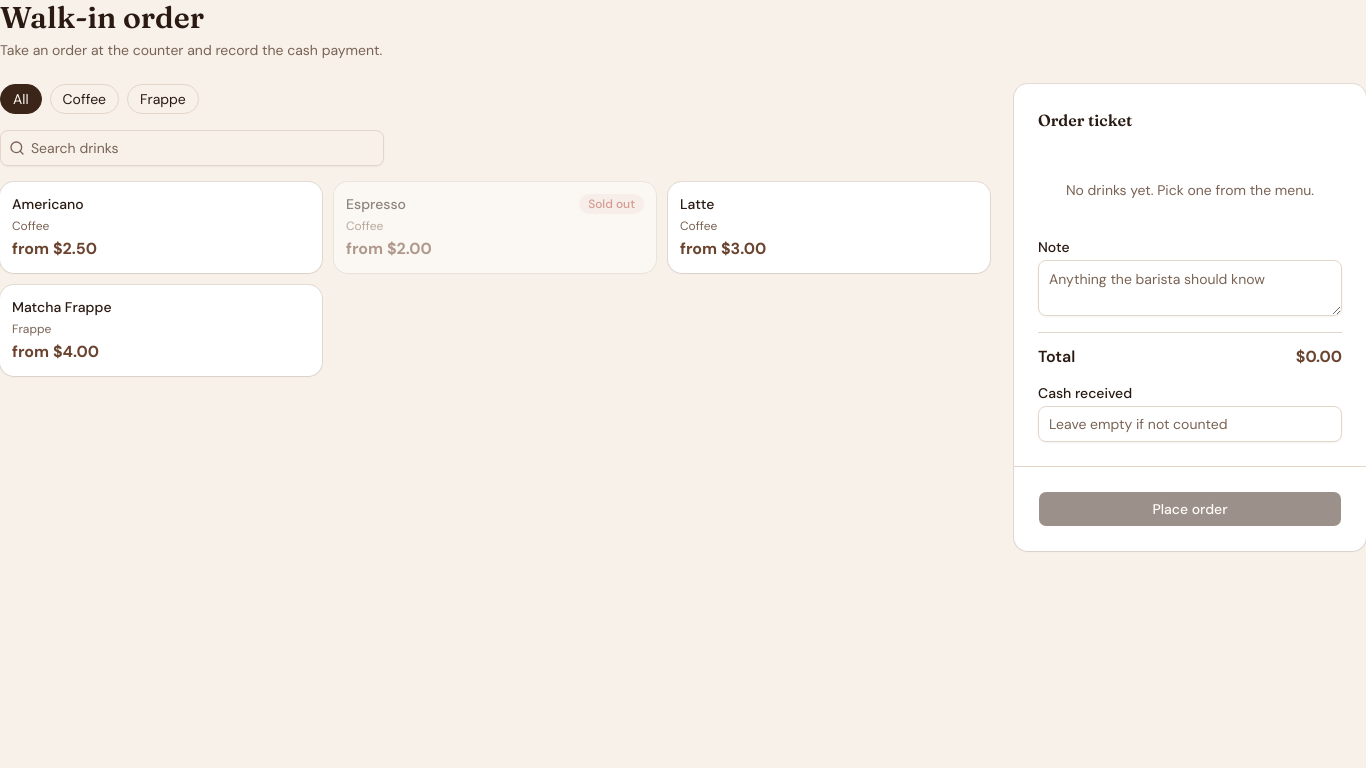
Scenario: WalkInPage (FR-23, FR-39, BR-13) › will not add a drink while a required group has no choice (TC-12)
Click the button "Latte Coffee from $3.00": (697, 204) [668,182,990,273]
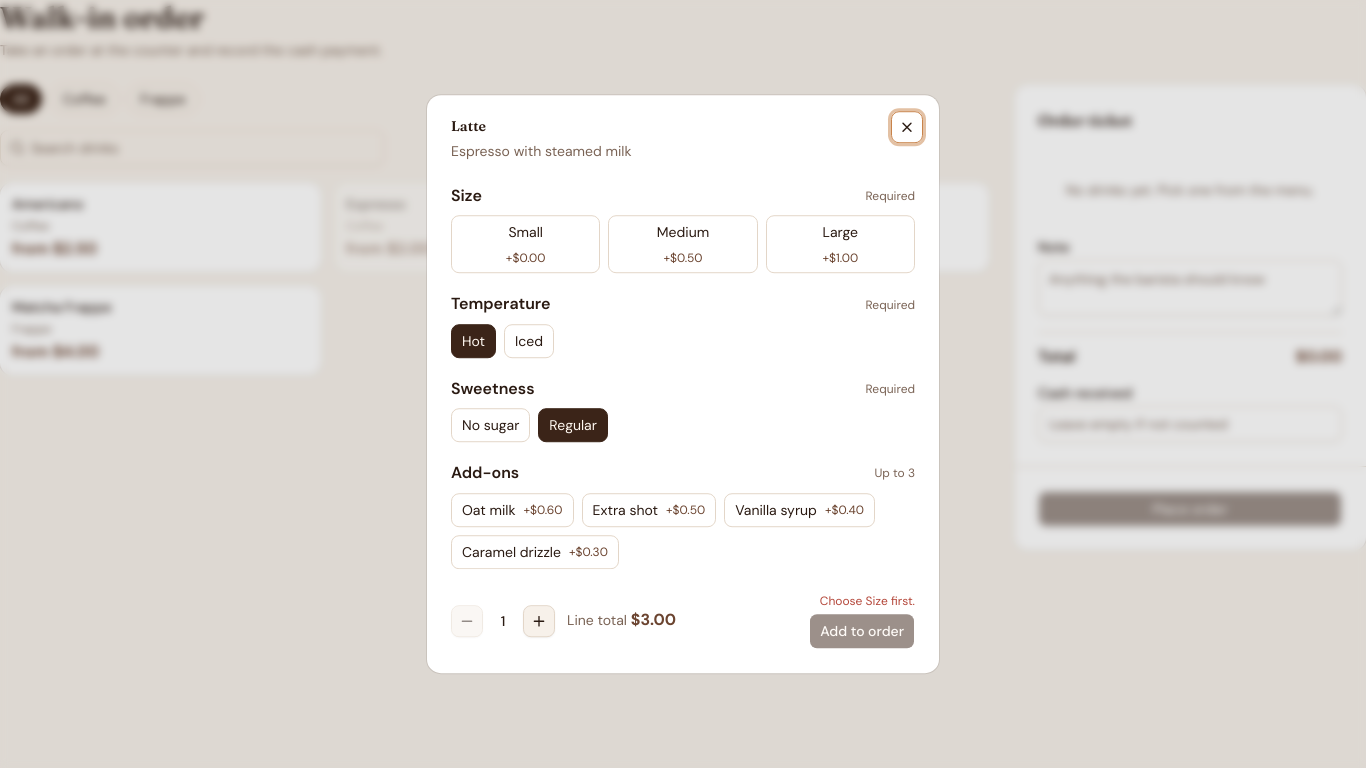
Result: the text "Choose Size first." is shown at [820,593,915,609]
Result: the button "Add to order" is disabled at [809,613,915,649]
Click the button "Small +$0.00": (526, 245) [451,216,600,274]
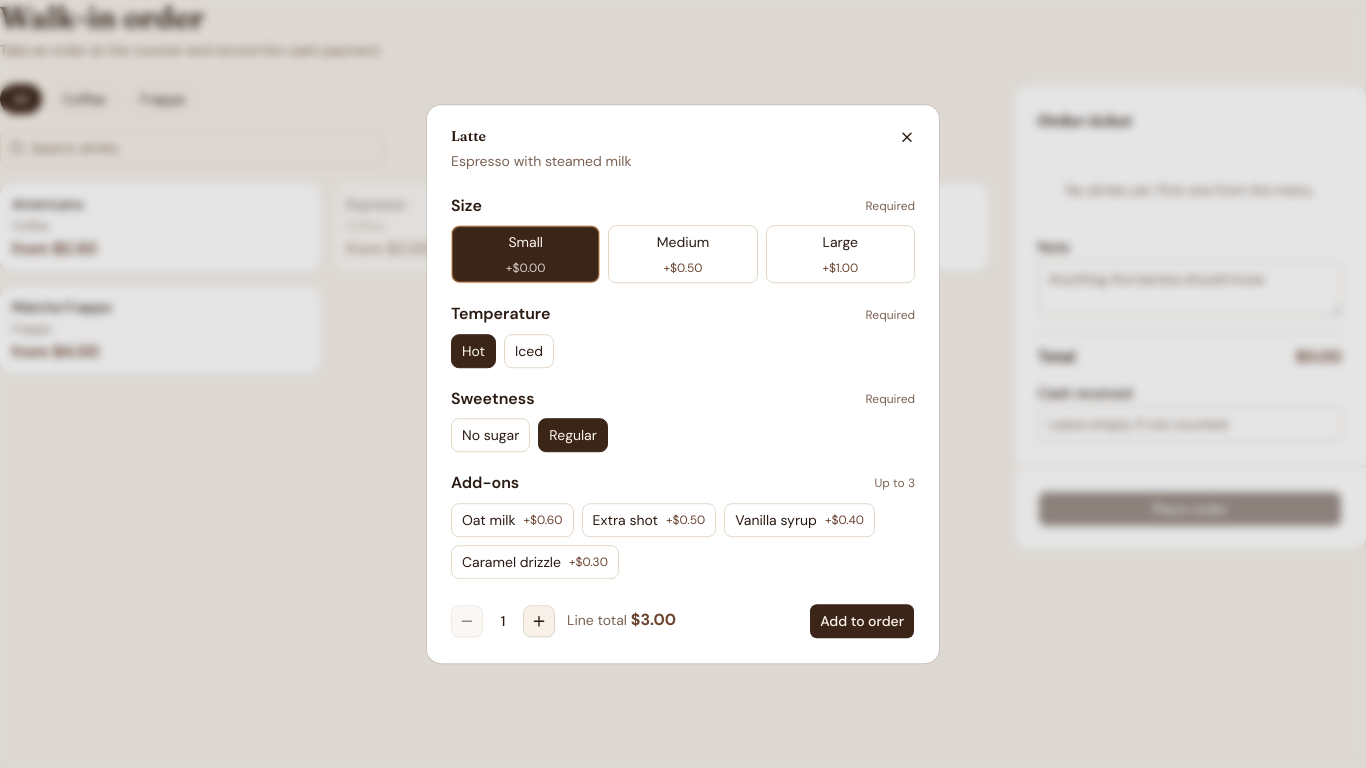
Result: the text "Choose Size first." is gone
Result: the button "Add to order" is enabled at [809,603,915,639]
